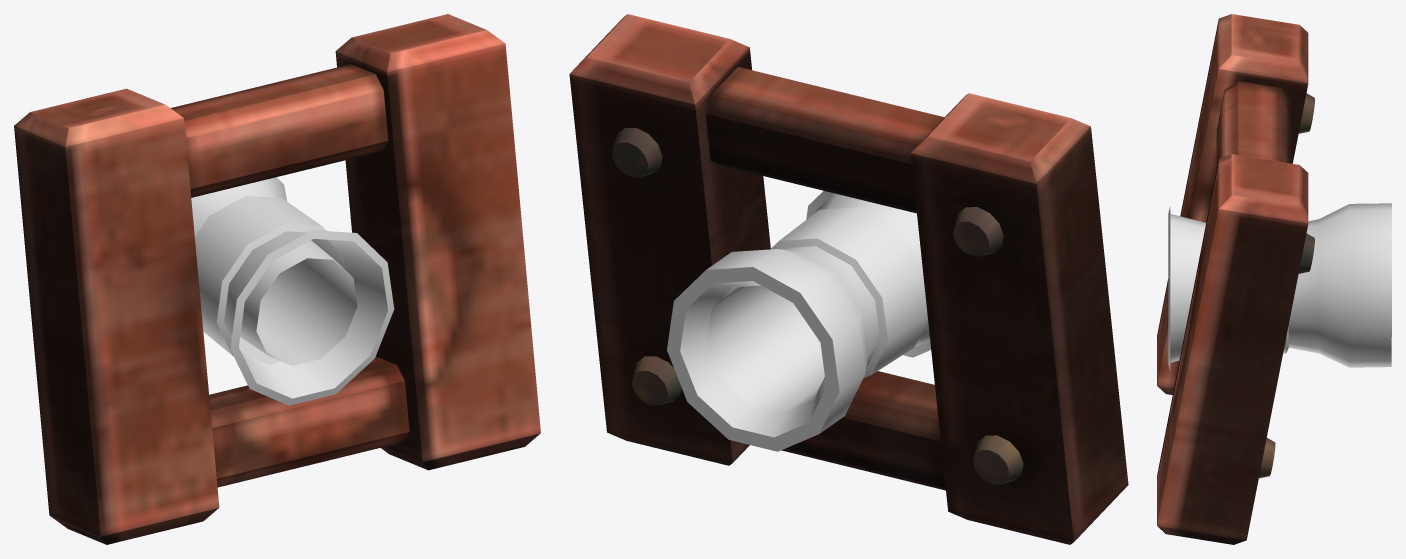
File: SM_Canon_Boat2.fbx
The picture shows the model from 3 angles, left to right: view 1: azimuth 30°, elevation 25°; view 2: azimuth 150°, elevation 25°; view 3: azimuth 270°, elevation 25°; orthographic projection. The views are drawn at different scales.
Parts seen in each view (by area): view 1: canon_2, SM_Canon_Low; view 2: canon_2, SM_Canon_Low; view 3: canon_2, SM_Canon_Low.
Part boxes in pixels (<box>): canon_2: <box>14,14,540,544</box>; SM_Canon_Low: <box>191,177,394,405</box>; canon_2: <box>569,14,1128,544</box>; SM_Canon_Low: <box>667,191,931,451</box>; canon_2: <box>1157,14,1314,544</box>; SM_Canon_Low: <box>1168,203,1391,370</box>.
Bounding box in the file's own units: 256 × 136 × 226.
